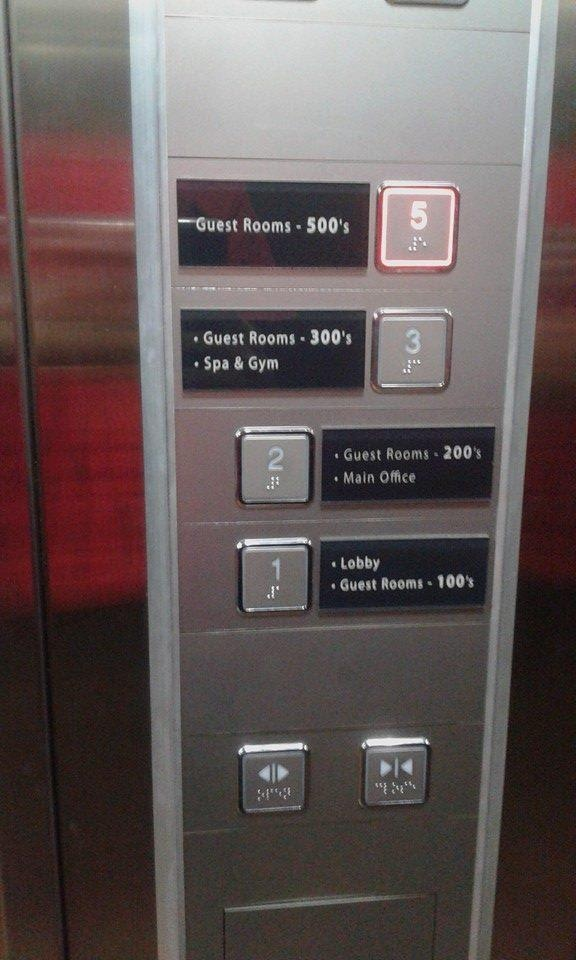1: (232, 532, 314, 618)
2: (231, 421, 318, 516)
3: (368, 300, 455, 397)
5: (372, 176, 462, 278)
close: (358, 735, 432, 812)
open: (233, 737, 312, 820)
